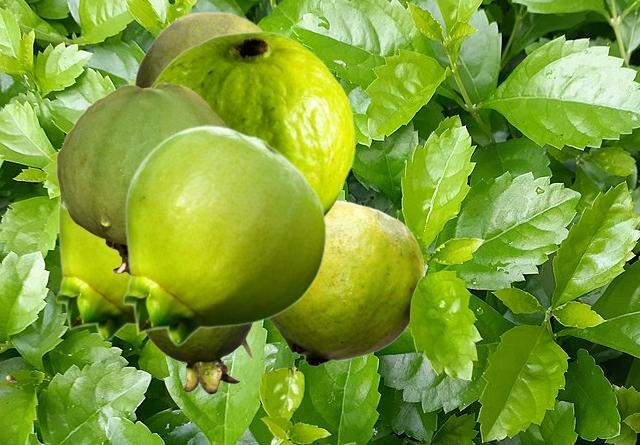guava: (122, 125, 326, 345), (149, 31, 354, 217), (56, 82, 226, 274), (268, 200, 423, 366), (55, 196, 134, 340), (133, 11, 263, 86), (145, 325, 253, 393)
